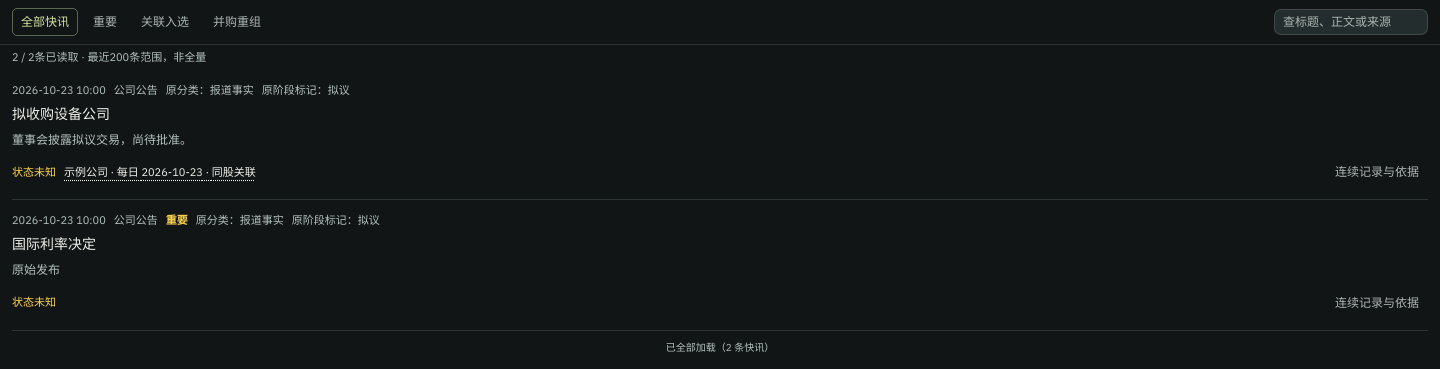
Test: 同源快讯阅读 › filters locally, keeps saved selection dates and distinguishes company phase from proven impact
Expected: the button "拟收购设备公司" is shown, 12,103 -> 1428,126
Click the button "关联入选": (165, 22) 132,8 -> 198,36
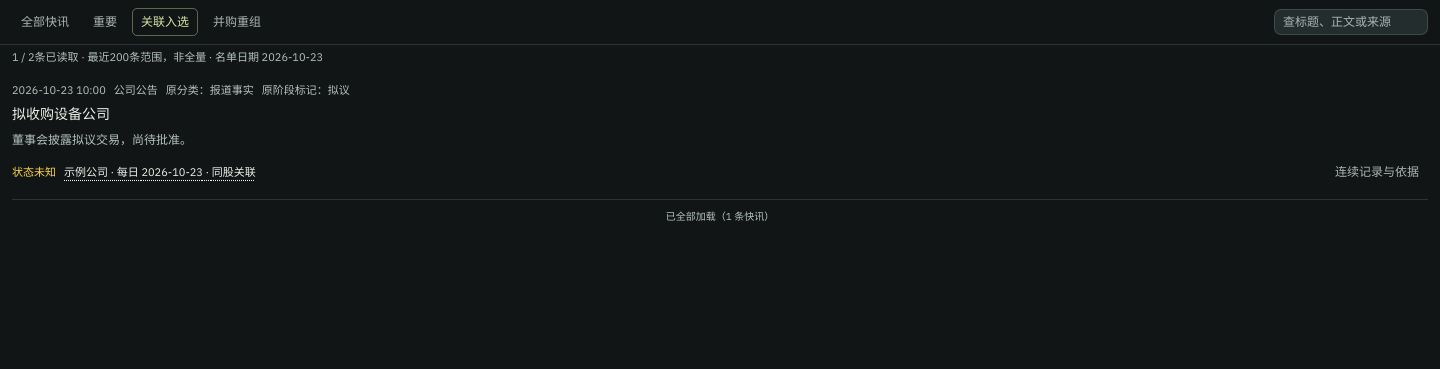
Expected: the text "示例公司 · 每日 2026-10-23 · 同股关联" is shown, 64,165 -> 256,179
Now the button "国际利率决定" is gone
Now the text "1 / 2条已读取 · 最近200条范围，非全量 · 名单日期 2026-10-23" is shown, box 12,50 -> 323,64
Click the button "全部快讯": (45, 22) 12,8 -> 78,36
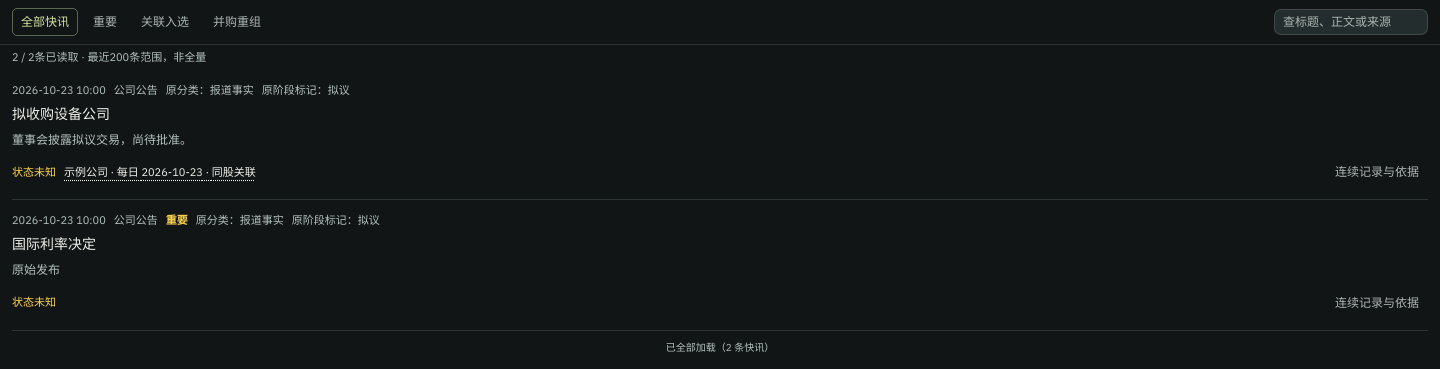
Click the button "重要": (105, 22) 84,8 -> 126,36
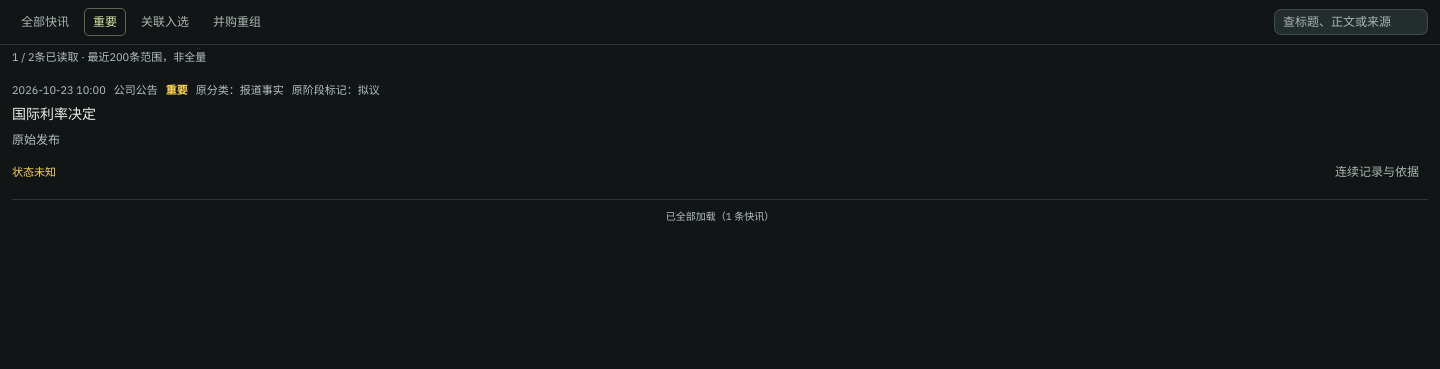
Now the button "国际利率决定" is shown, box 12,103 -> 1428,126
Now the button "拟收购设备公司" is gone
